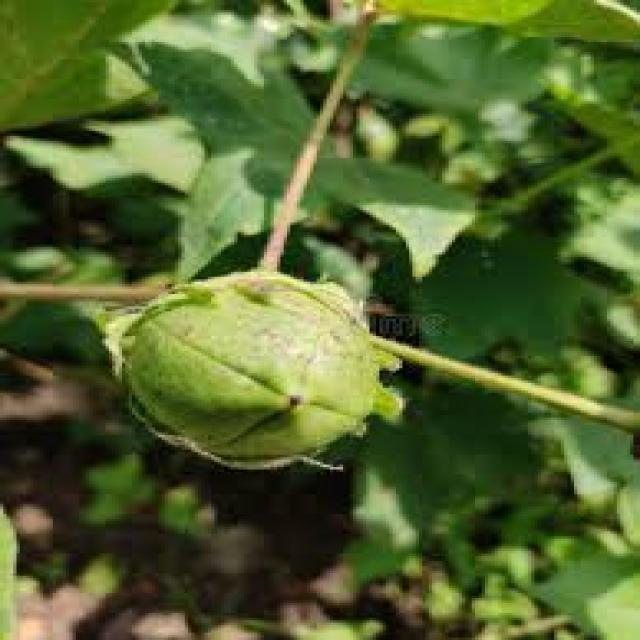Early Boll: (108, 259, 394, 468)
